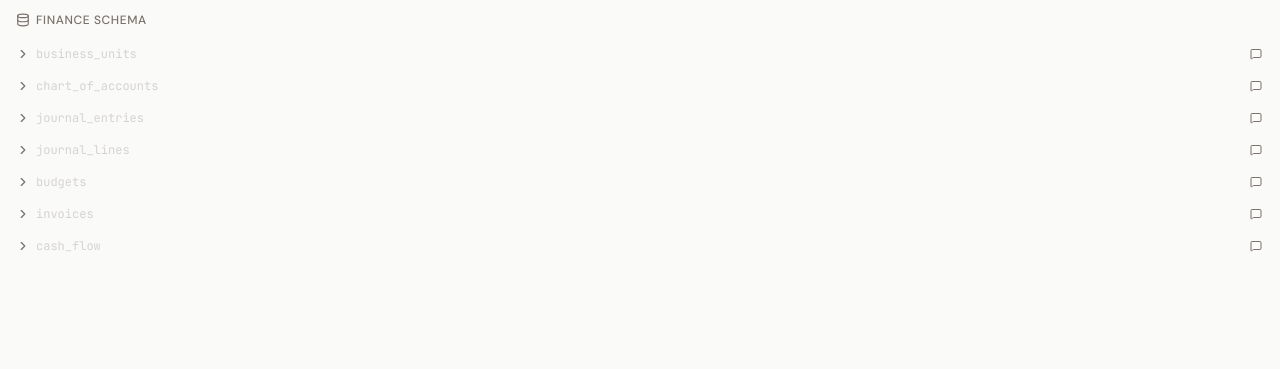
Scenario: SchemaExplorer › has aria-expanded on table items
Step 1. Click the button "cash_flow" → (68, 246), box [16,238,1242,254]
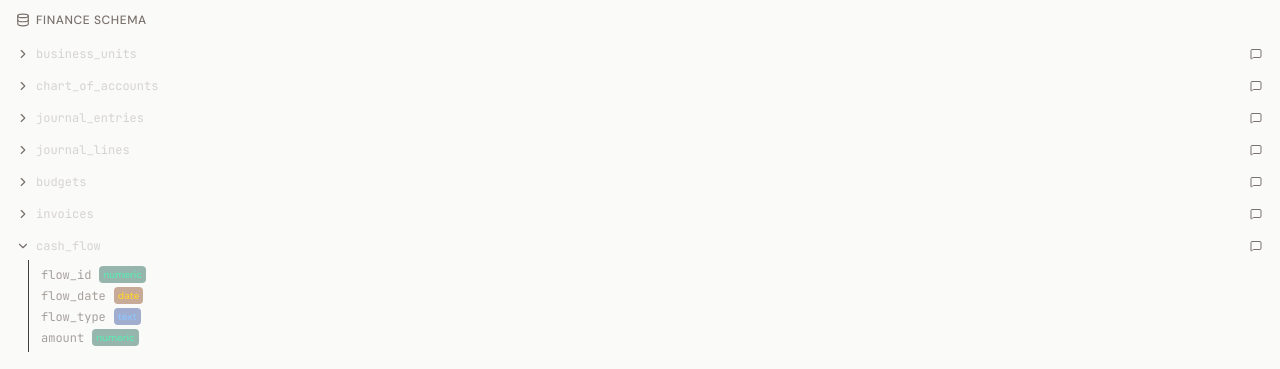
expect the list item "cash_flow" is expanded: met, box [16,238,1264,254]
